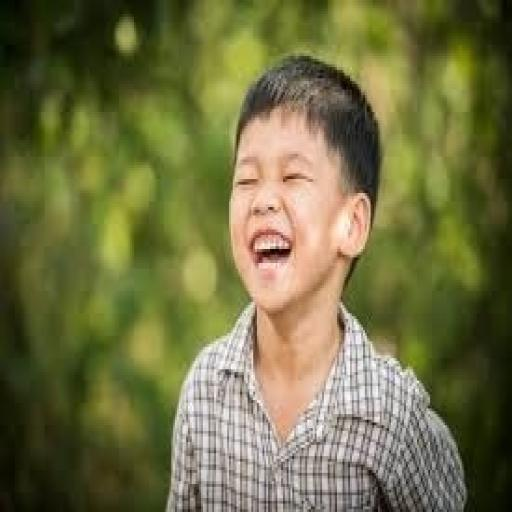laughing: (155, 45, 469, 509)
